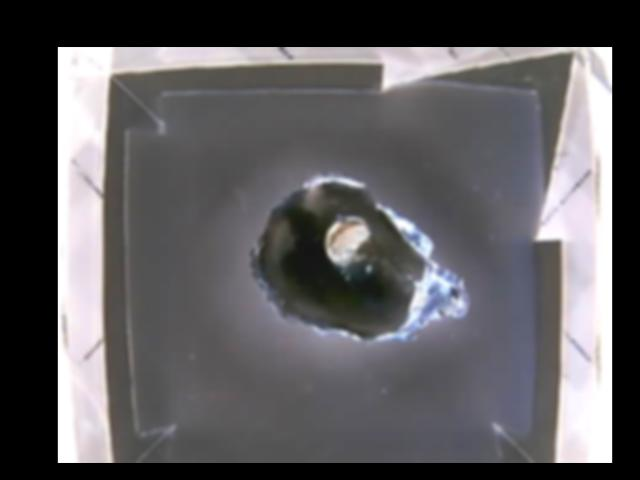Shell: (248, 172, 467, 339)
